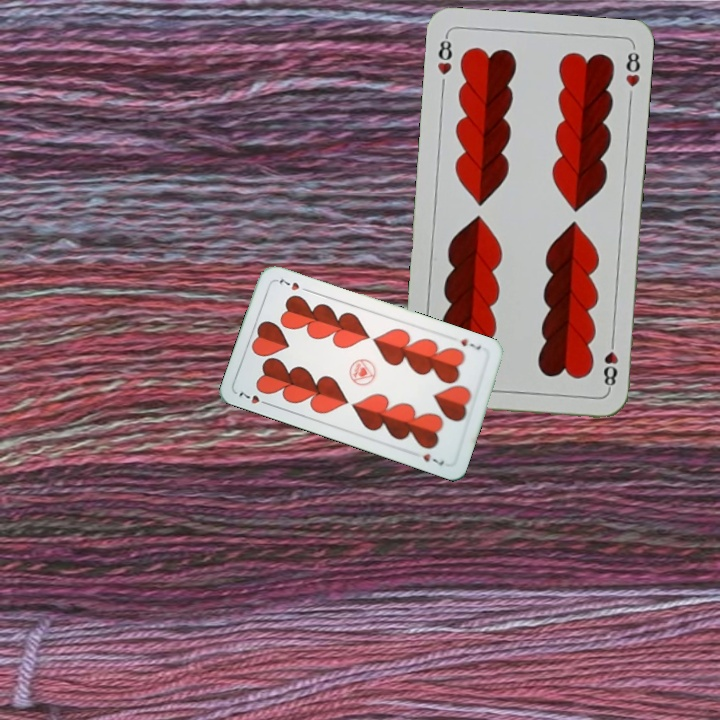H7: (234, 388, 273, 408), (457, 334, 483, 353)
H8: (599, 334, 621, 393), (433, 31, 455, 77)
